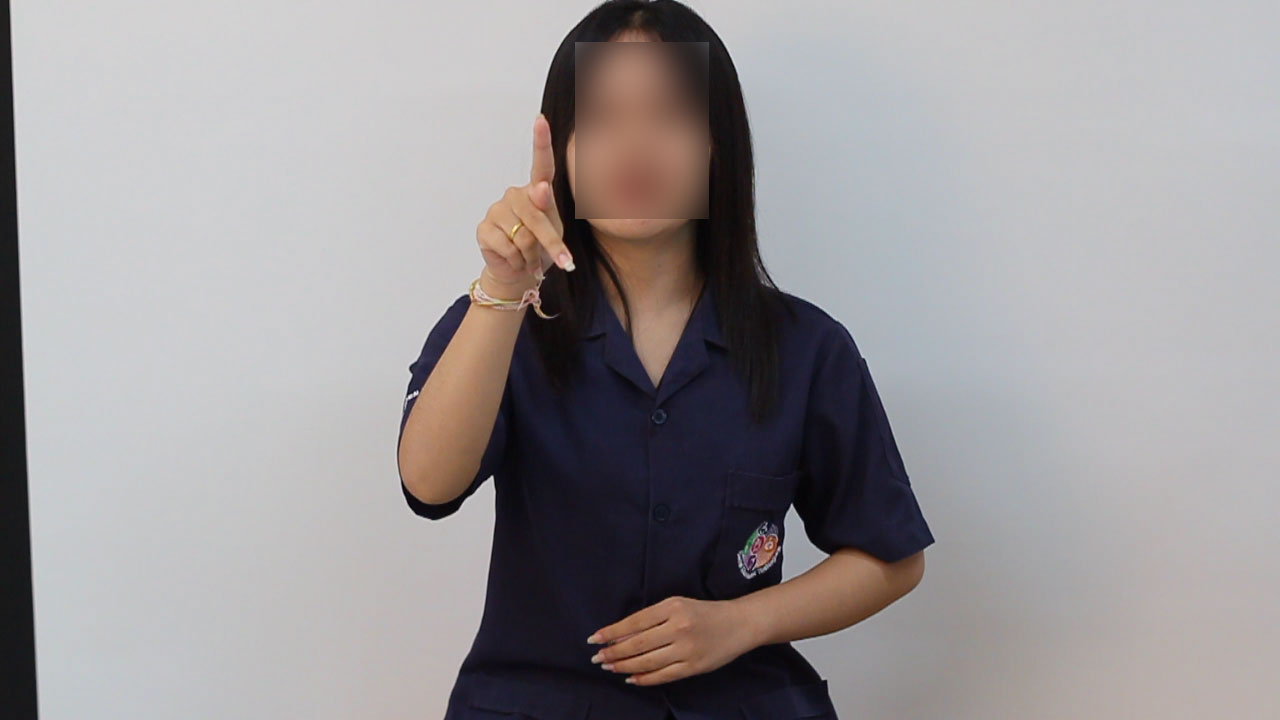por: (462, 104, 590, 306)
